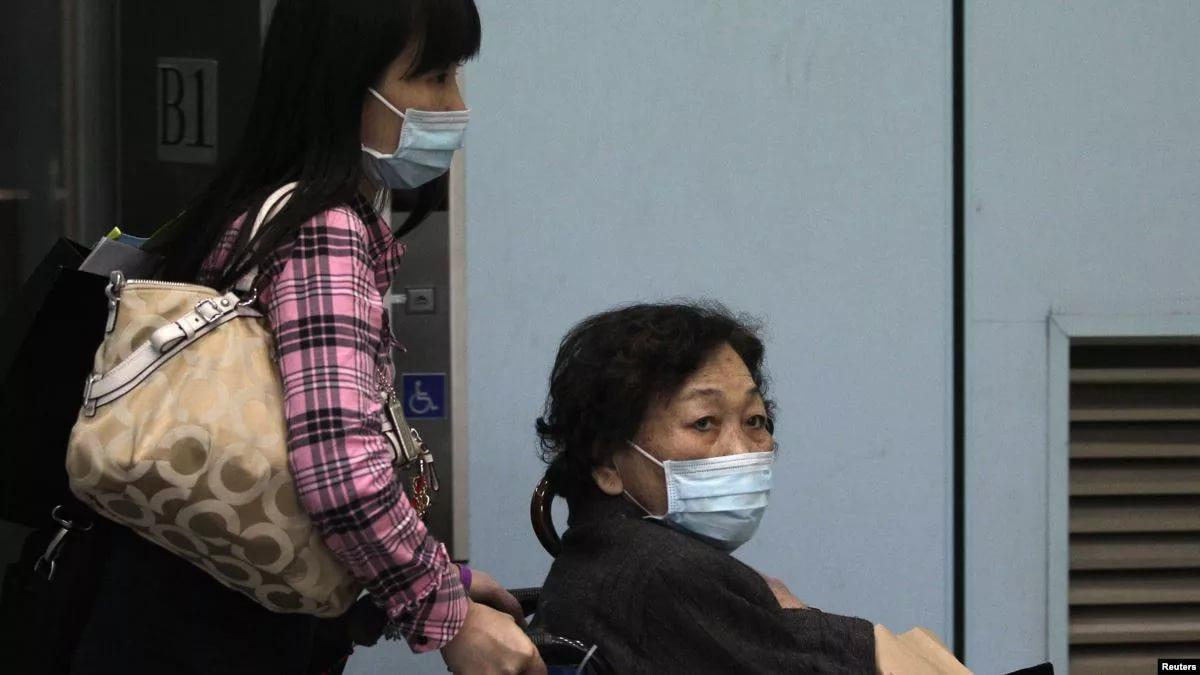mask: (643, 353, 781, 540), (345, 8, 479, 189)
